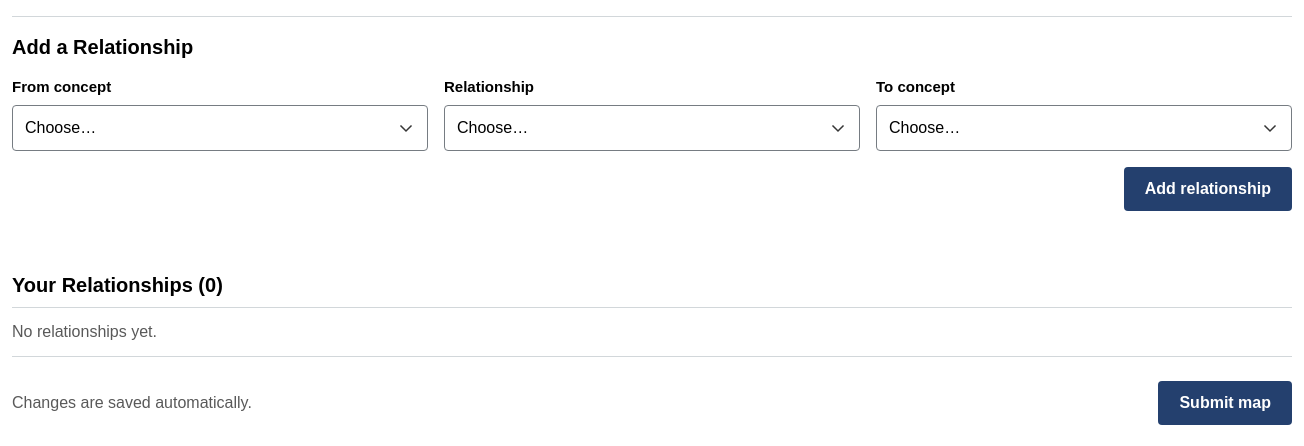
Test: ConceptMapEditor (keyboard path) › explains refusals instead of adding duplicates or untyped links
Select "Alpha" in the dropdown labelled "From concept" at point(220, 128), box [12,105,428,151]
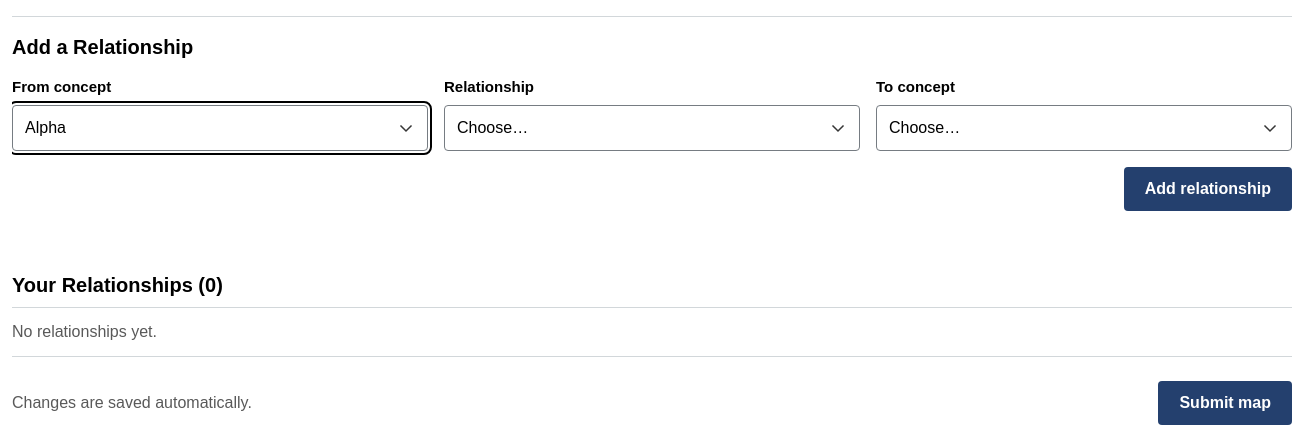
Select "Beta" in the dropdown labelled "To concept" at point(1084, 128), box [876,105,1292,151]
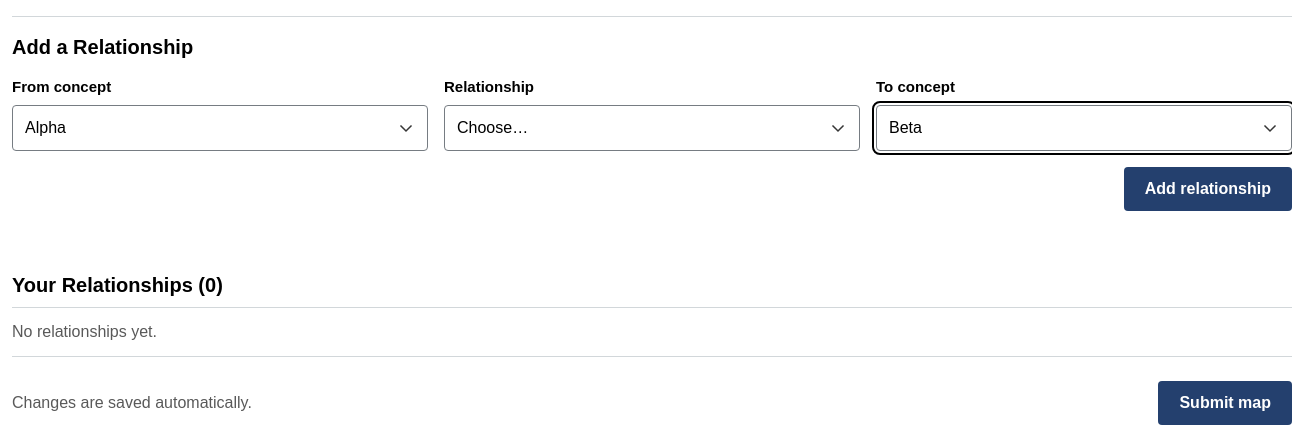
Click the button "Add relationship" at point(1208, 189), box [1124,167,1292,211]
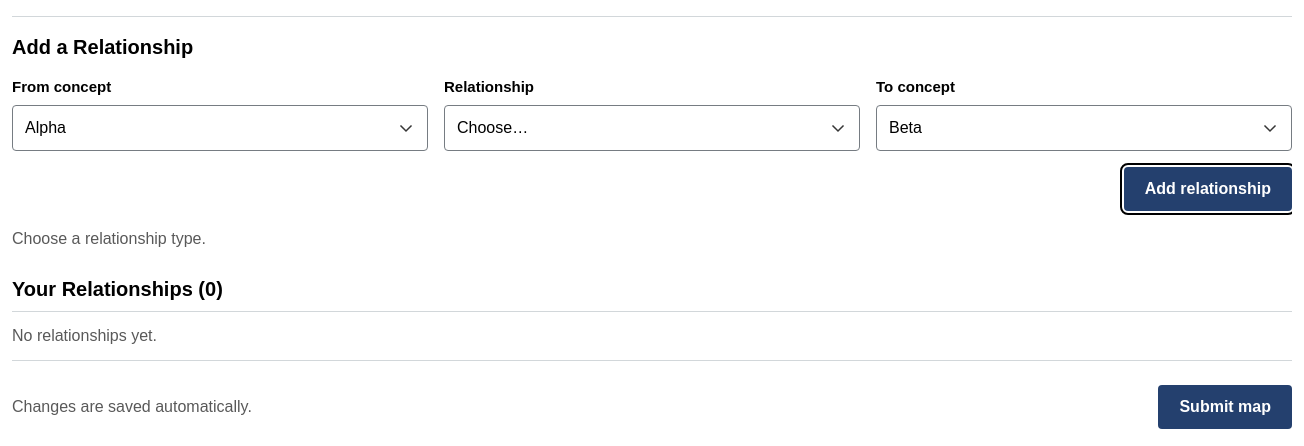
Expected: the text "No relationships yet." is shown, [12,311,1292,361]
Expected: the message "Choose a relationship type." is shown, [12,230,206,247]
